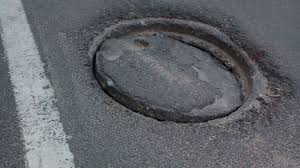Manhole-Closed: (78, 5, 273, 133)
